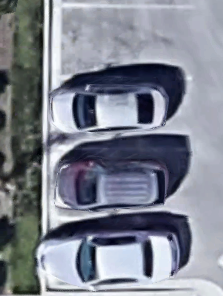Occupied: (55, 78, 191, 149), (55, 149, 191, 220), (54, 219, 191, 287)
Vacant: (57, 4, 191, 79)
